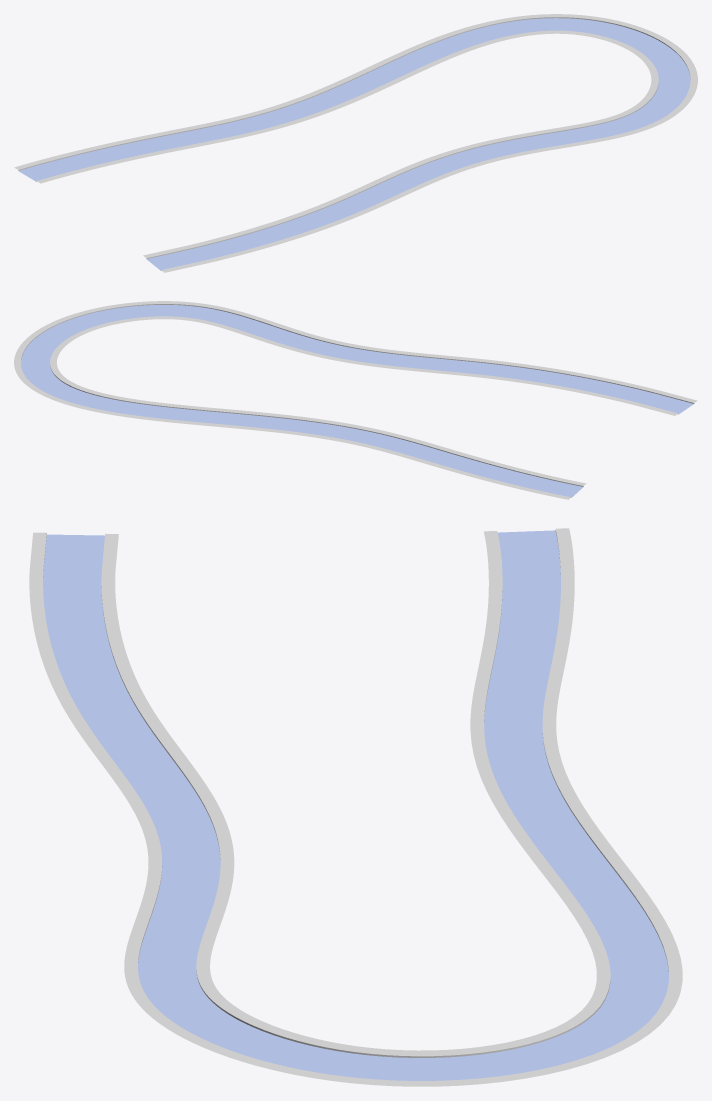
The model's file is road_1.fbx.
The picture shows the model from 3 angles, top to bottom: view 1: azimuth 30°, elevation 25°; view 2: azimuth 150°, elevation 25°; view 3: azimuth 270°, elevation 25°; orthographic projection. The views are drawn at different scales.
Parts seen in each view (by area): view 1: Plane.003; view 2: Plane.003; view 3: Plane.003.
Boxes of the visible parts, x1,y1,x2,y2 form: Plane.003: (14,14,697,272); Plane.003: (14,301,697,499); Plane.003: (29,528,682,1086).
Size of the model in its own units: 14953 by 21.45 by 7391.
